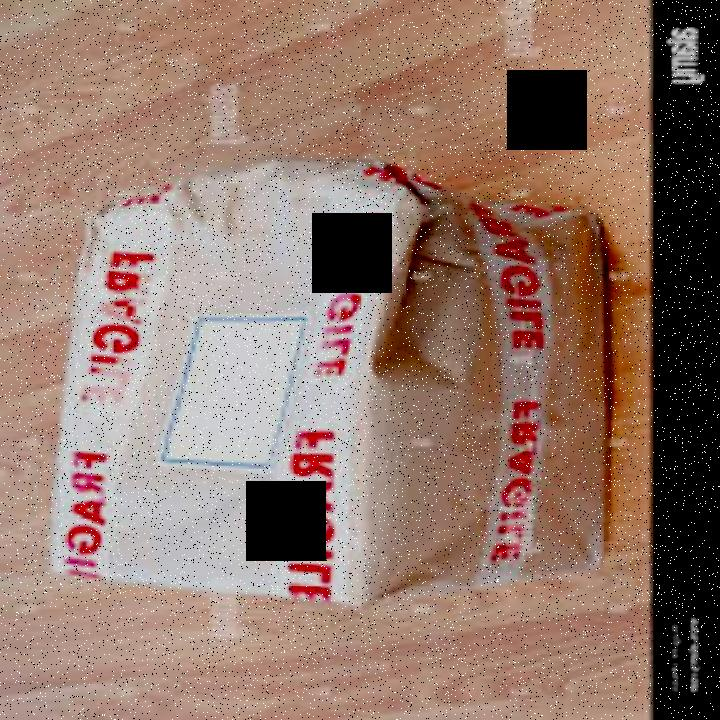box: (33, 147, 626, 616)
